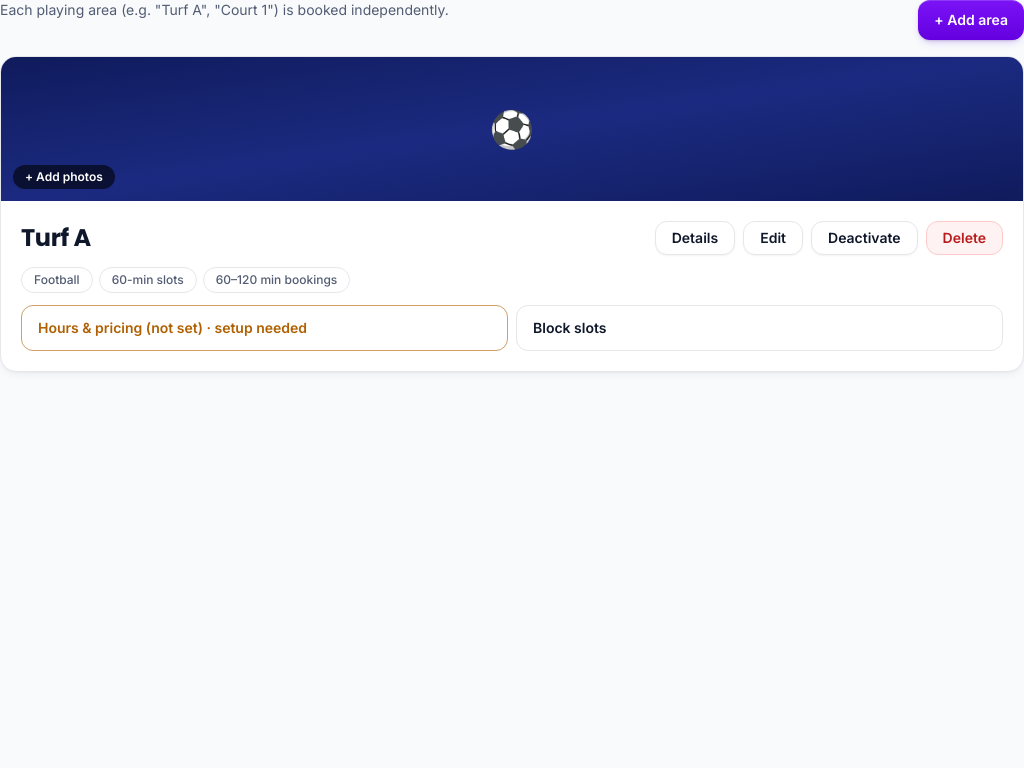
Test: owner: Activate and Deactivate › with upcoming bookings it lists them and asks to cancel them or leave them booked
Later steps or results of the test are not shown.
What coordinates should you click on to do the following:
click the button "Deactivate"
I would click on:
 (864, 238)
Its box is left=811, top=221, right=918, bottom=255.
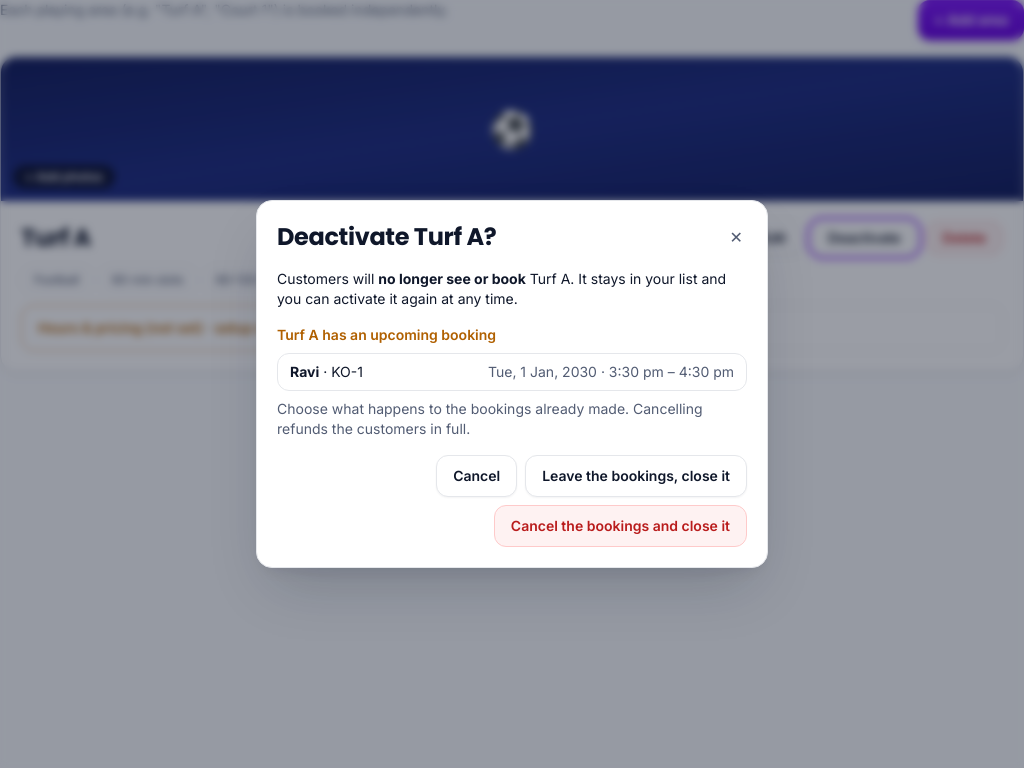
Check: the text "Turf A has an upcoming booking" is shown, box left=277, top=326, right=496, bottom=343
Check: the dialog "Deactivate Turf A?" shows "Ravi", box left=290, top=363, right=319, bottom=380
